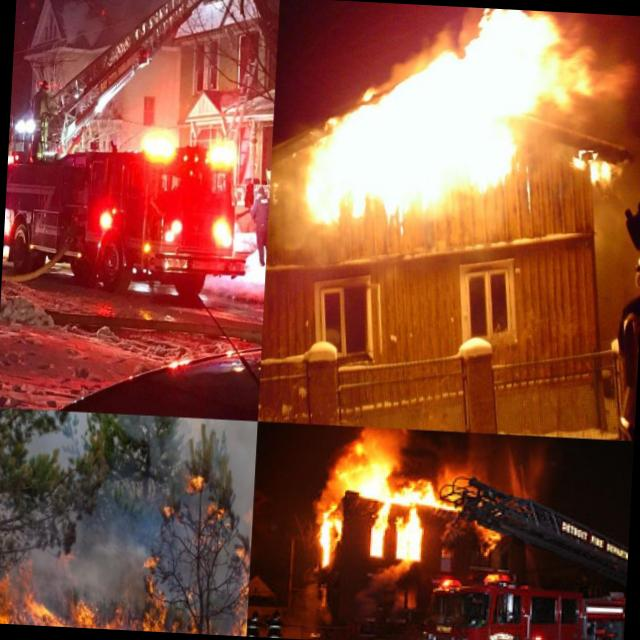fire: (314, 0, 640, 238), (312, 424, 441, 560), (38, 598, 248, 636), (438, 431, 550, 501), (0, 557, 37, 625), (468, 518, 503, 560), (212, 498, 235, 533), (186, 472, 207, 499), (232, 580, 250, 608), (163, 497, 178, 524), (140, 552, 158, 572), (232, 544, 248, 566), (210, 538, 223, 560), (146, 579, 158, 598), (183, 582, 194, 602)
smoke: (368, 551, 418, 595)
